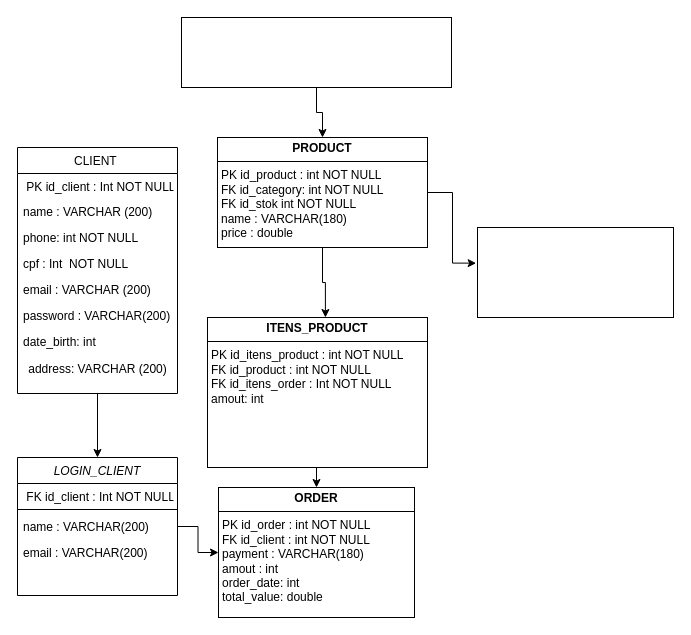
Image size: 691x635. Some labels were removed from this diagram. Here are the shapes that lost their labels. From the top down, the centre of each, then its label:
At [316,52]: "CATEGORY PK id_category : int NOT NULL name: VARCHAR (180) NOT NULL".
At [575,272]: "STOCK PK id_stock : int NOT NULL FK id_product : int NOT NULL amout : int".
